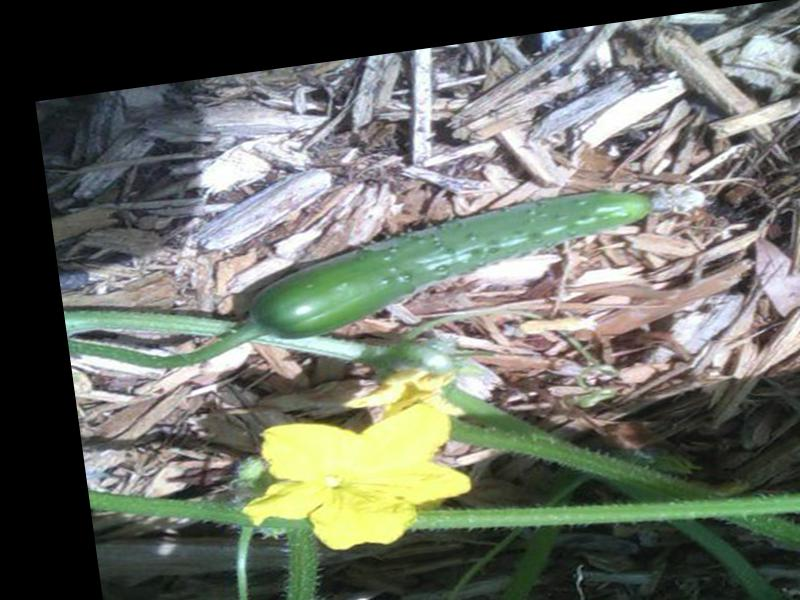Cucumber: (233, 174, 707, 345)
